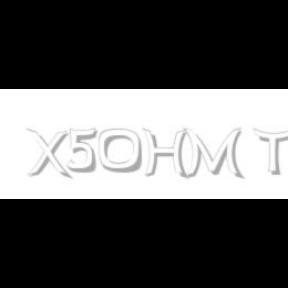5: (66, 128, 97, 174)
H: (142, 128, 188, 180)
M: (184, 128, 243, 180)
O: (98, 128, 144, 174)
X: (26, 128, 70, 180)
